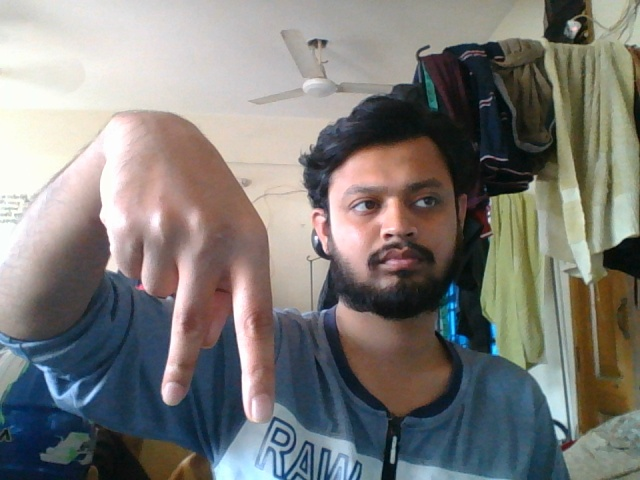pa: (101, 111, 292, 432)
